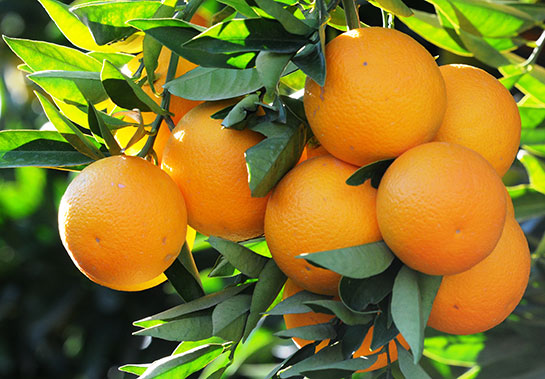portakal: (25, 106, 190, 318), (275, 6, 450, 163)
